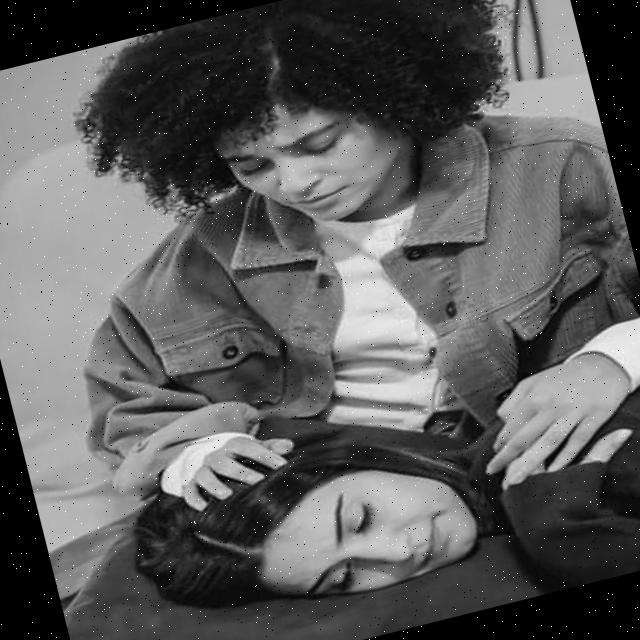Sadness: (248, 451, 487, 614)
